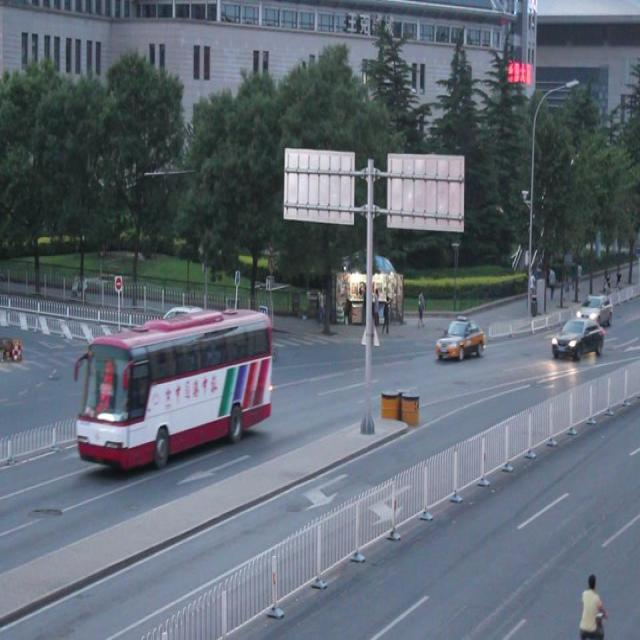car: (149, 307, 217, 359), (550, 317, 602, 359), (435, 318, 483, 359), (576, 291, 610, 323)
van: (78, 305, 272, 471)
